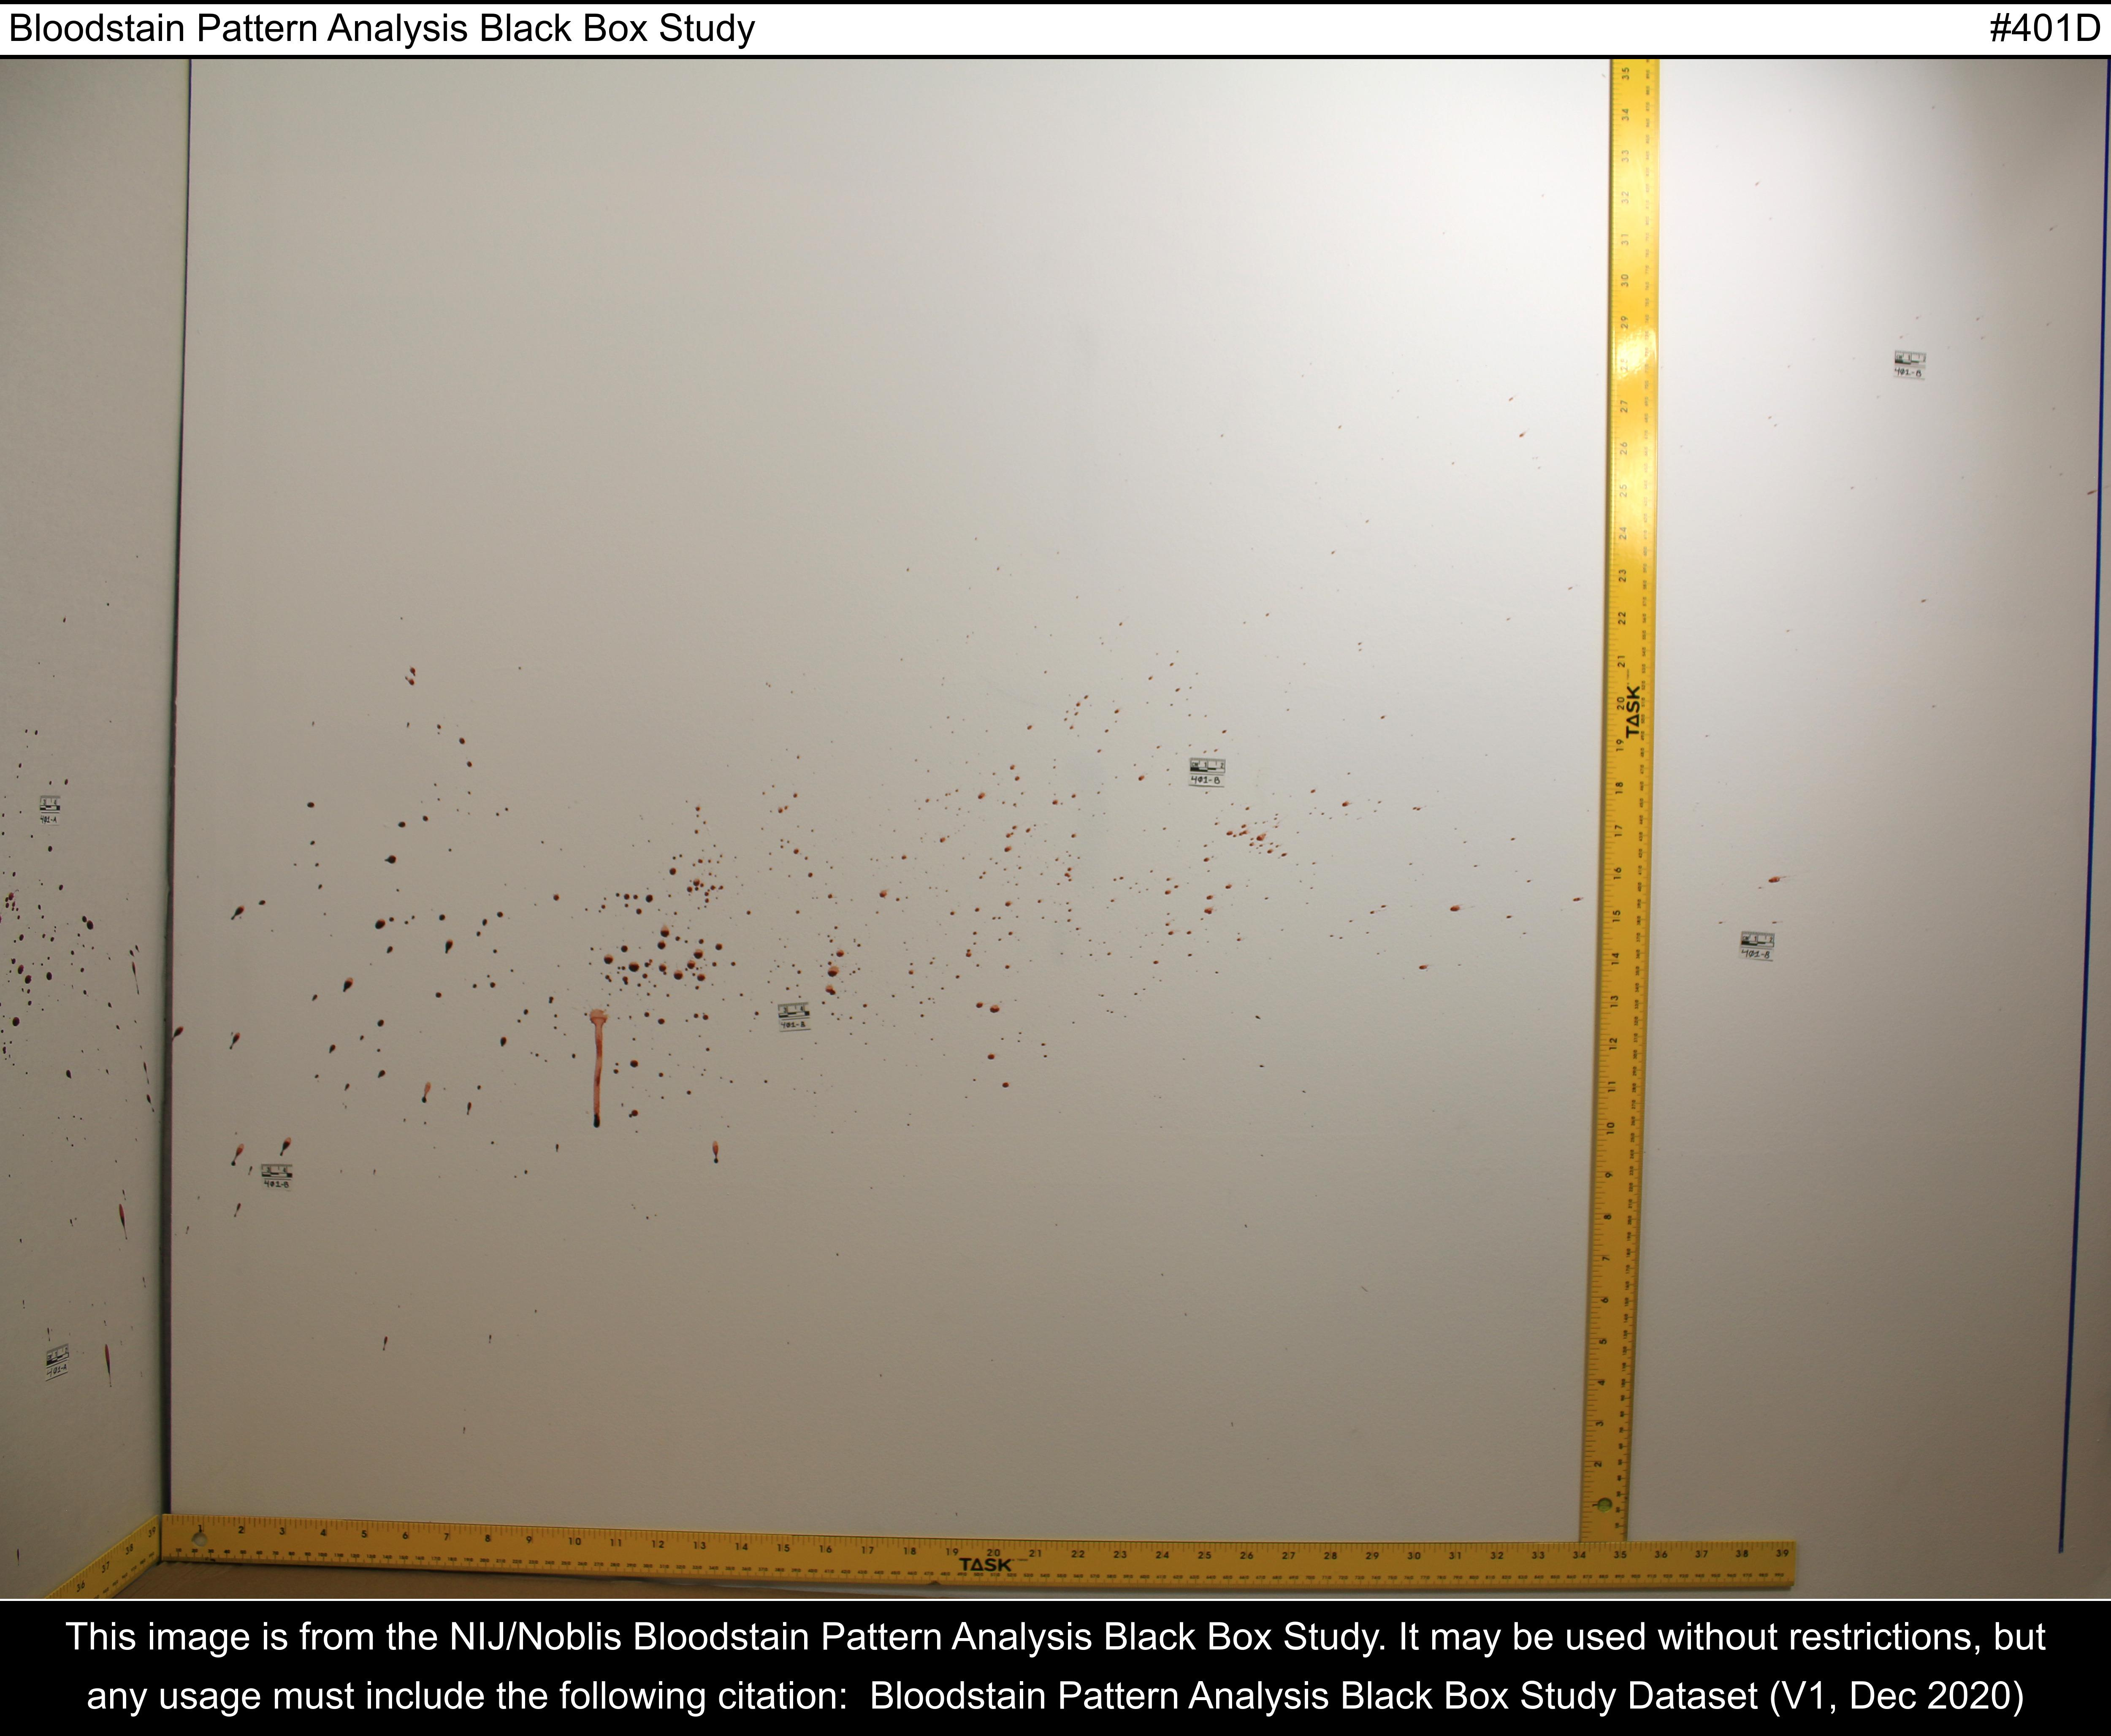Impact: (237, 638, 1501, 1180)
